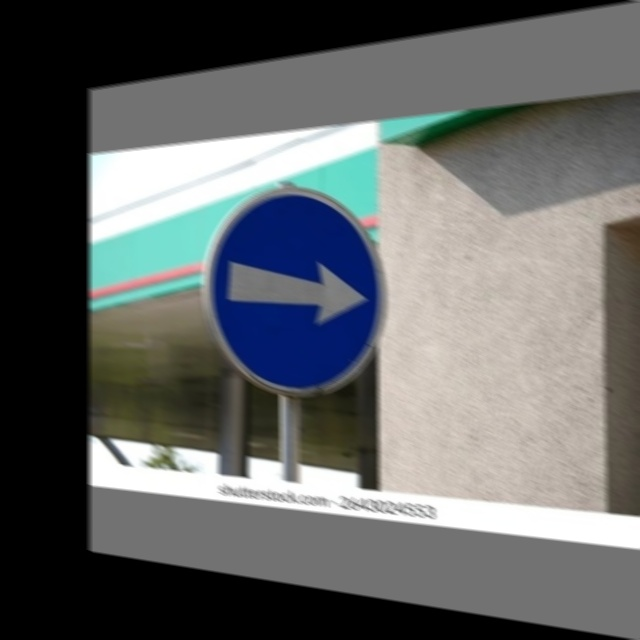Compulsory_Turn_Right: (207, 175, 391, 402)
